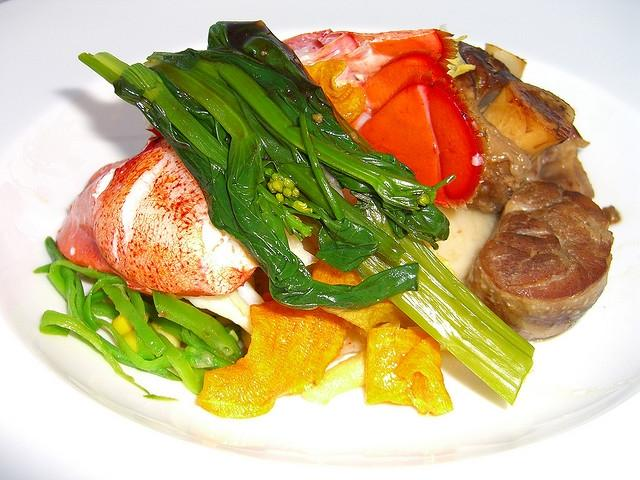corn: (112, 314, 135, 335), (121, 330, 139, 354)
